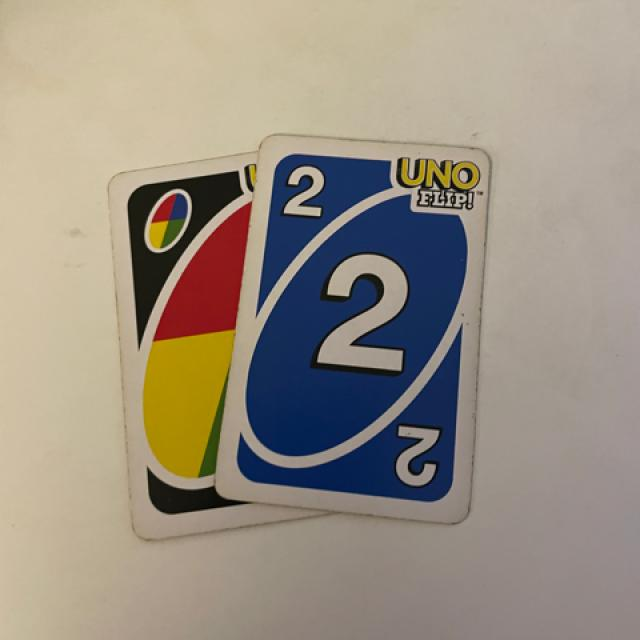lblue-2: (271, 149, 338, 240)
lcolor-40: (135, 177, 194, 255)
